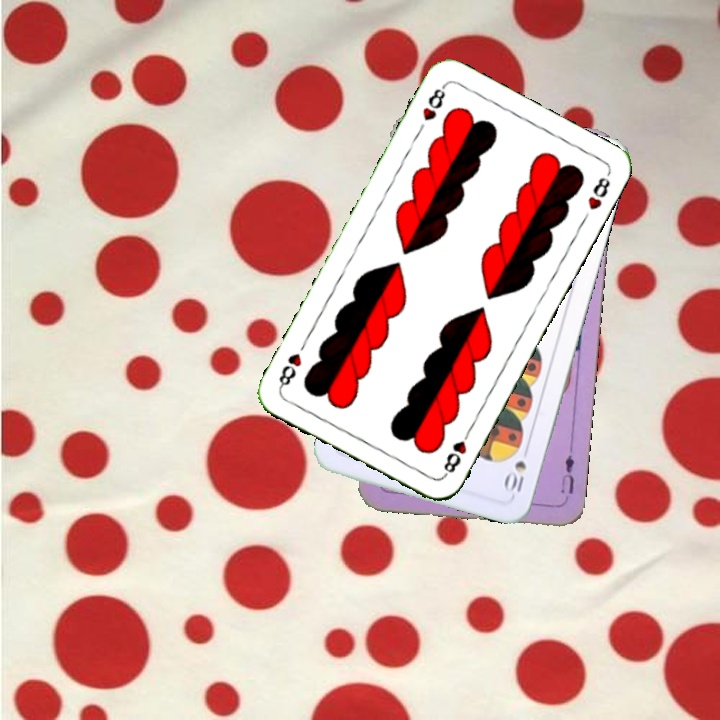EU: (557, 451, 577, 497)
H8: (439, 424, 474, 479), (418, 81, 448, 124)
S10: (501, 456, 529, 495)
